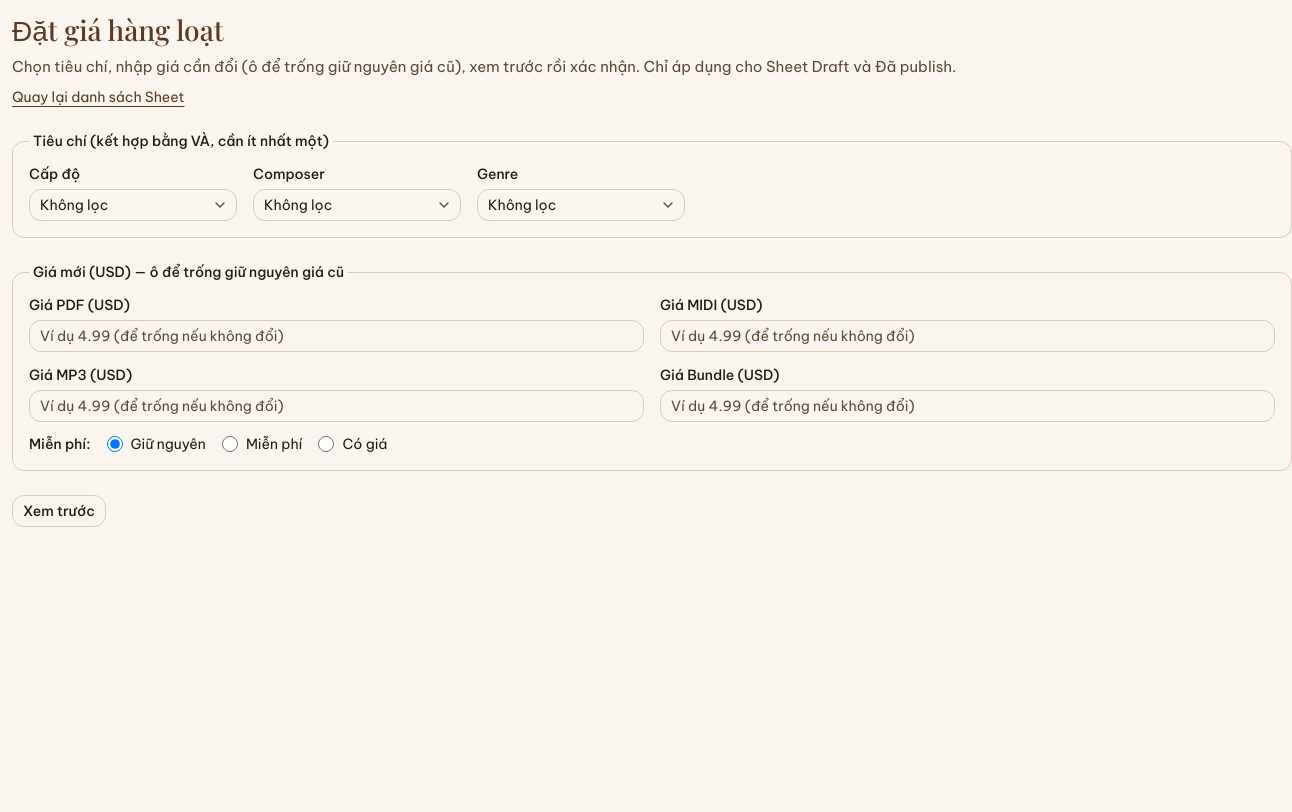
Scenario: Trang đặt giá hàng loạt › giá sai không gửi API; không nhập gì cũng không gửi
Click the dropdown named "Cấp độ" at x=133, y=205, box [29,189,237,221]
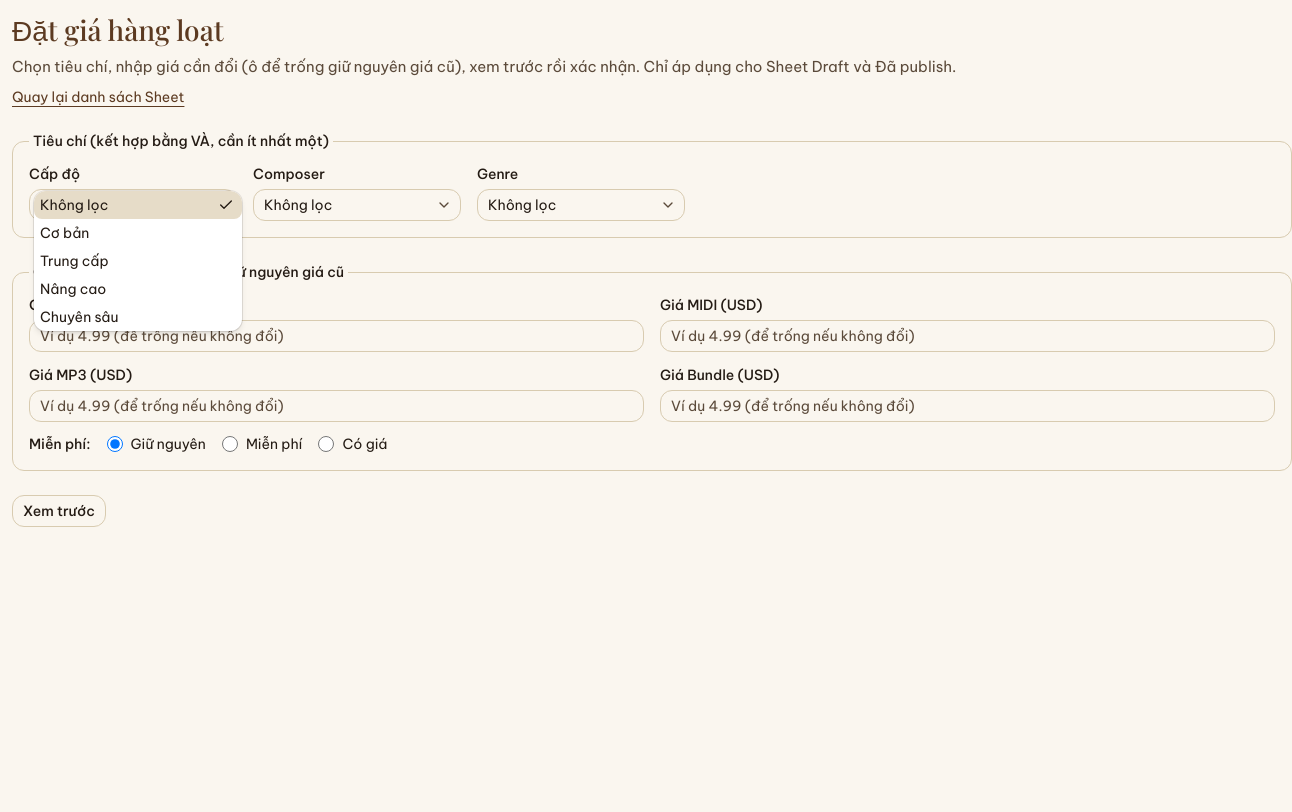
Click the option "Cơ bản" at x=65, y=233, box [40,224,89,242]
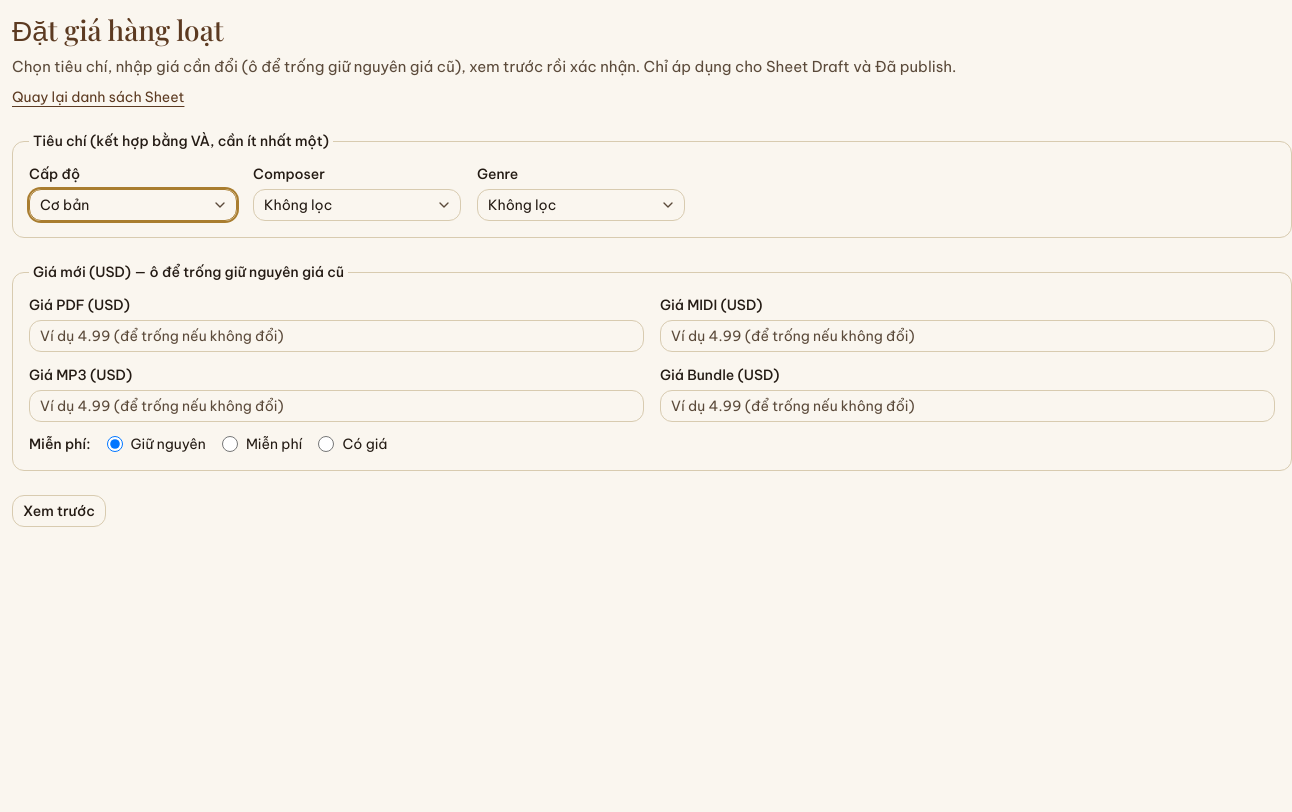
Click the button "Xem trước" at x=59, y=511, box [12,495,106,527]
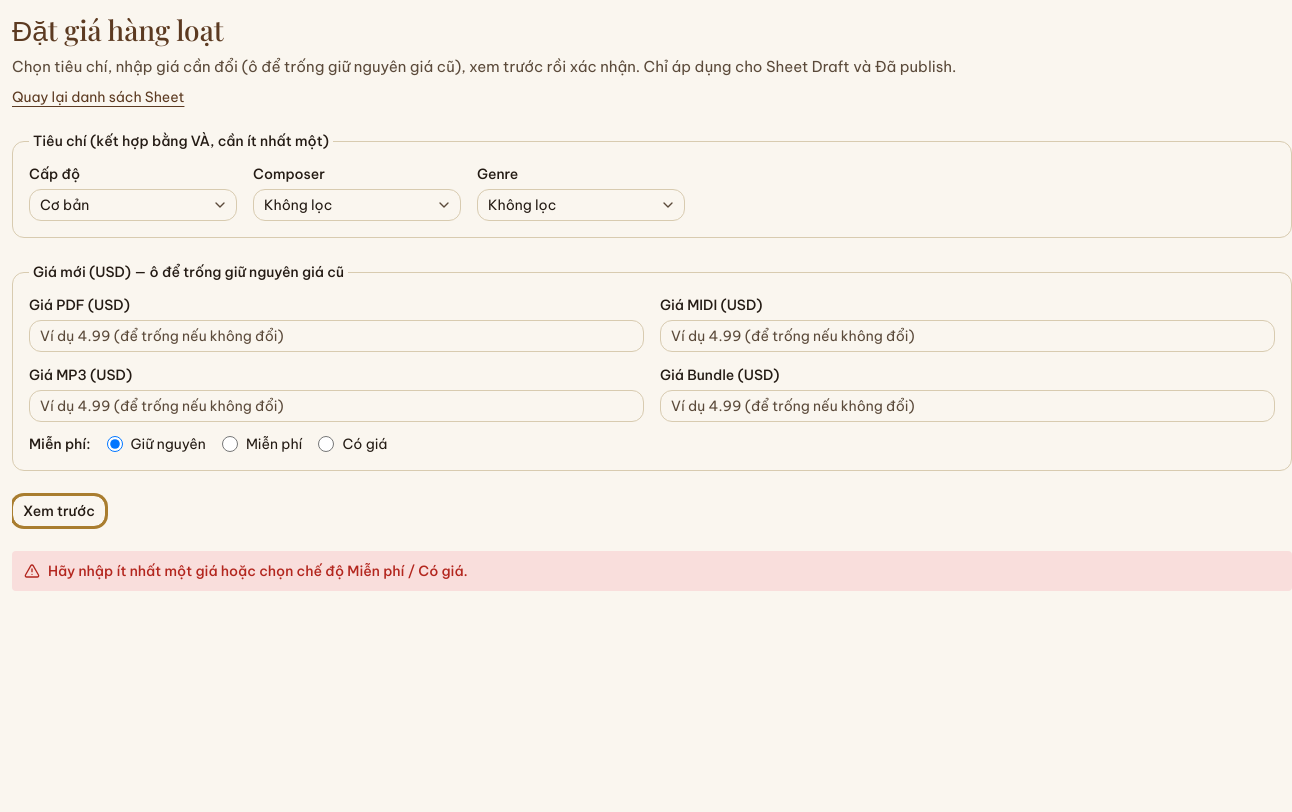
Now the message shows "ít nhất một giá", box [48,562,468,580]
Type "1001" into the field labelled "Giá PDF (USD)" at x=336, y=336, box [29,320,644,352]
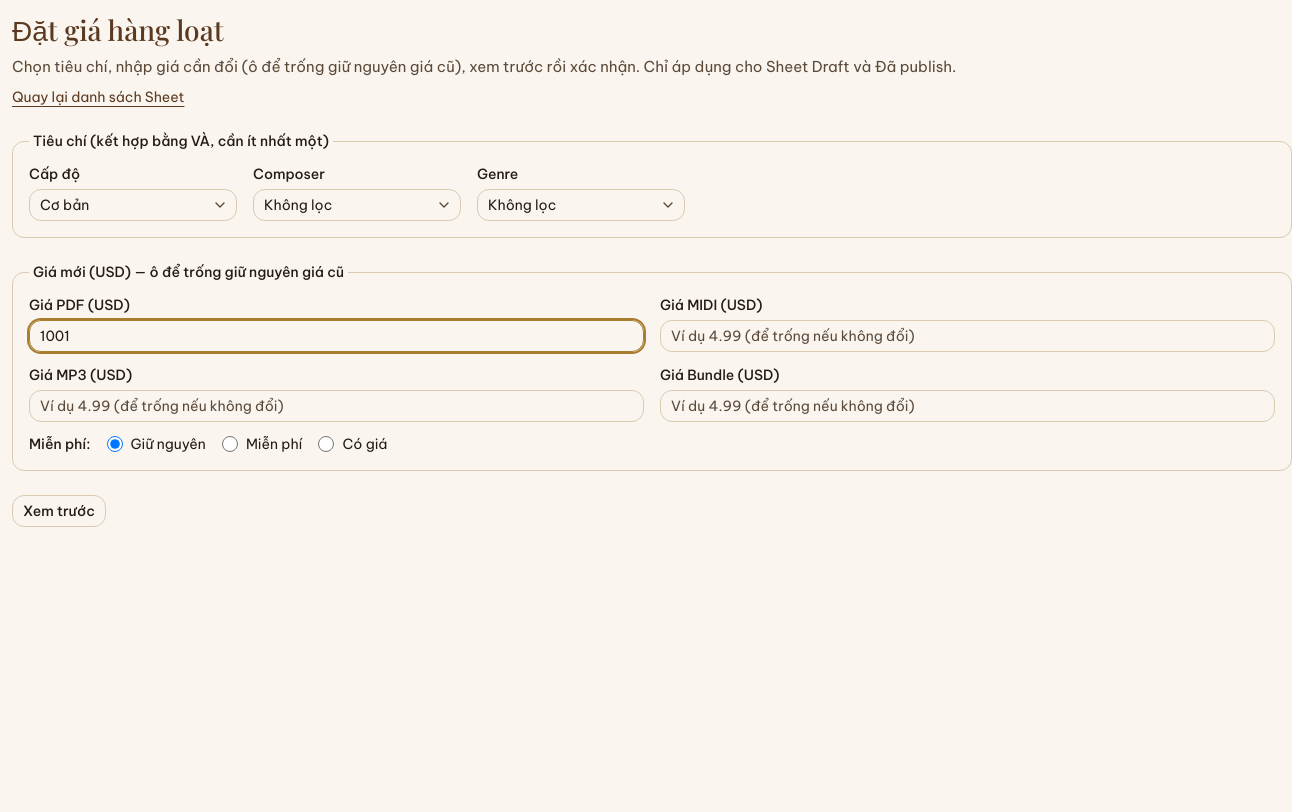
Click the button "Xem trước" at x=59, y=511, box [12,495,106,527]
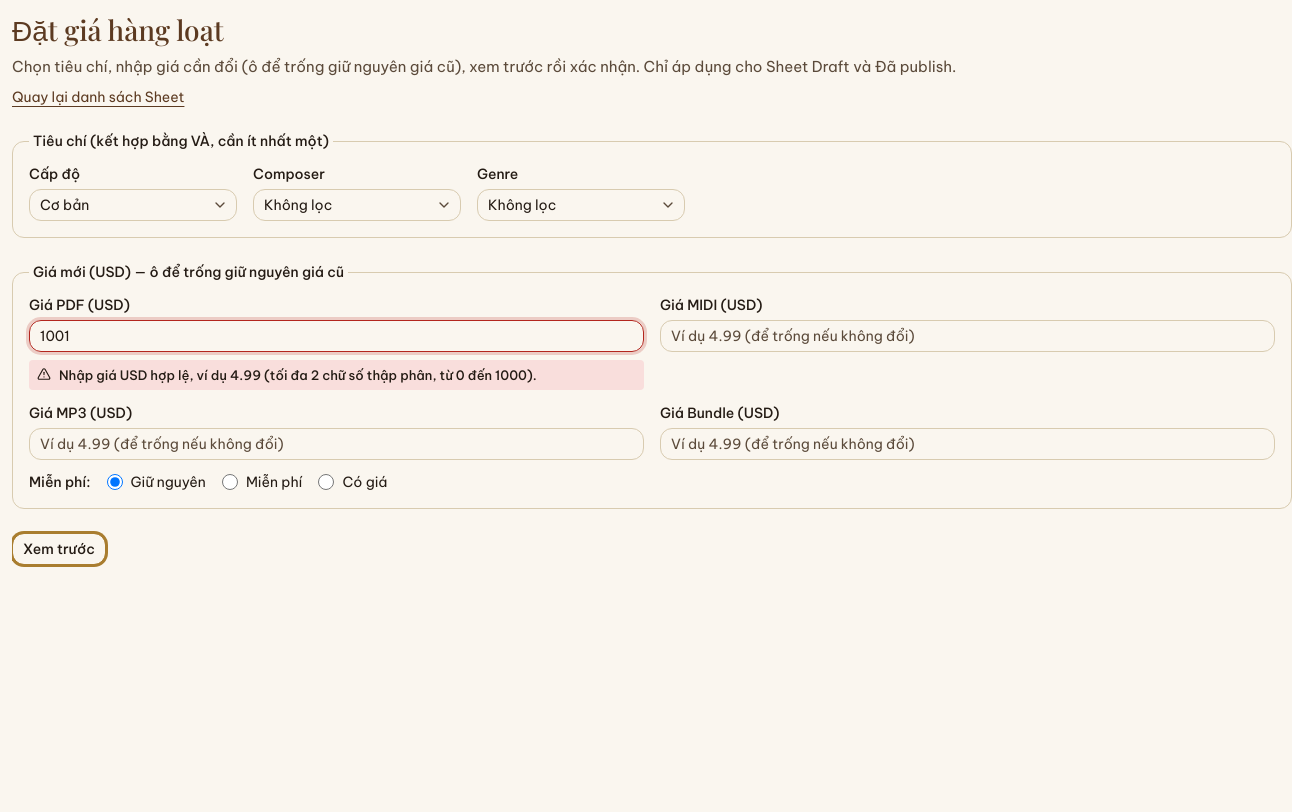
Now the text "tối đa 2 chữ số thập phân" is shown, box [59,367,537,383]
